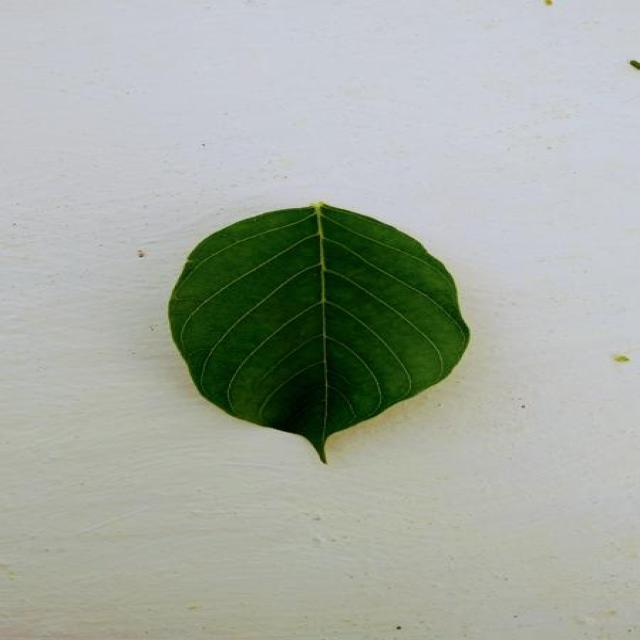honge: (168, 204, 470, 462)
